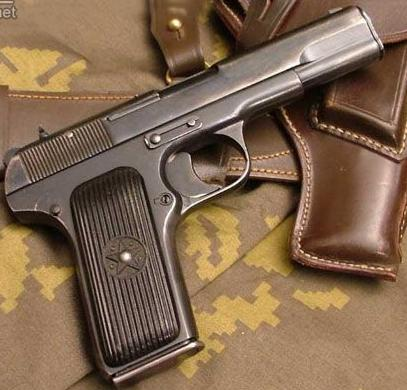gun: (1, 0, 407, 390)
